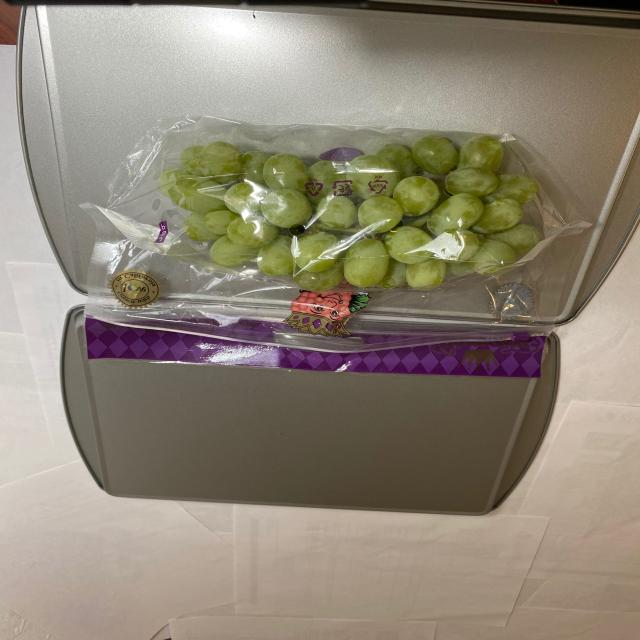grapes: (128, 133, 554, 284)
